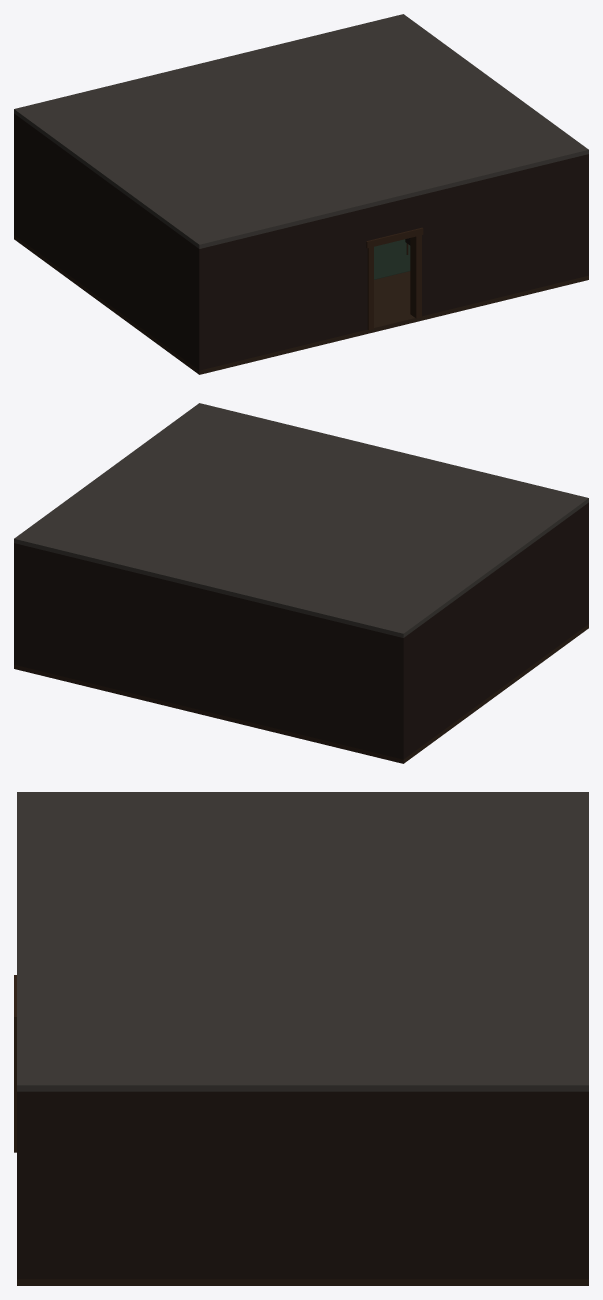
The model's file is trading_floor.glb.
3 renders of one model, top to bottom at view 1: azimuth 30°, elevation 25°; view 2: azimuth 150°, elevation 25°; view 3: azimuth 270°, elevation 25°, orthographic. The views are drawn at different scales.
Parts seen in each view (by area): view 1: TradingFloor-col, Rug.001; view 2: TradingFloor-col; view 3: TradingFloor-col.
Part boxes in pixels (x1,y1,x2,y2): TradingFloor-col: (14, 14, 588, 374); Rug.001: (374, 239, 410, 279); TradingFloor-col: (14, 403, 588, 763); TradingFloor-col: (14, 792, 588, 1285).
Size of the model in its own units: 11.4 by 3.64 by 9.45.
